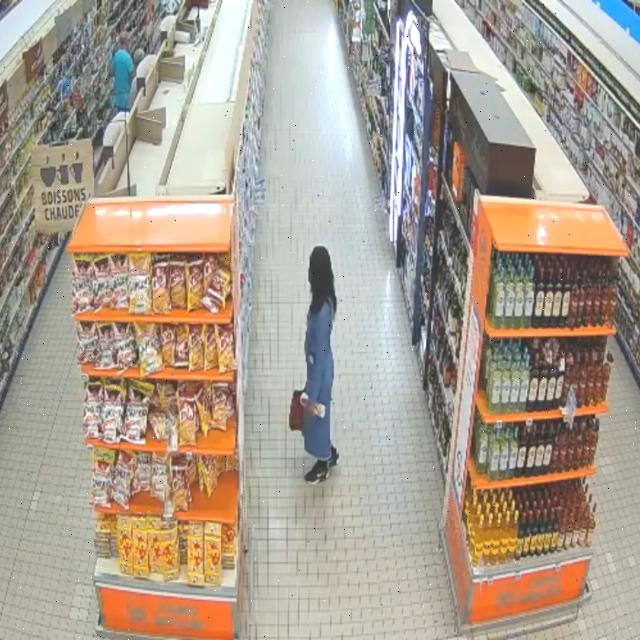article: (314, 402, 327, 420)
bags: (289, 390, 304, 431)
hands: (304, 403, 319, 416)
person: (303, 246, 338, 484), (113, 32, 135, 112)
